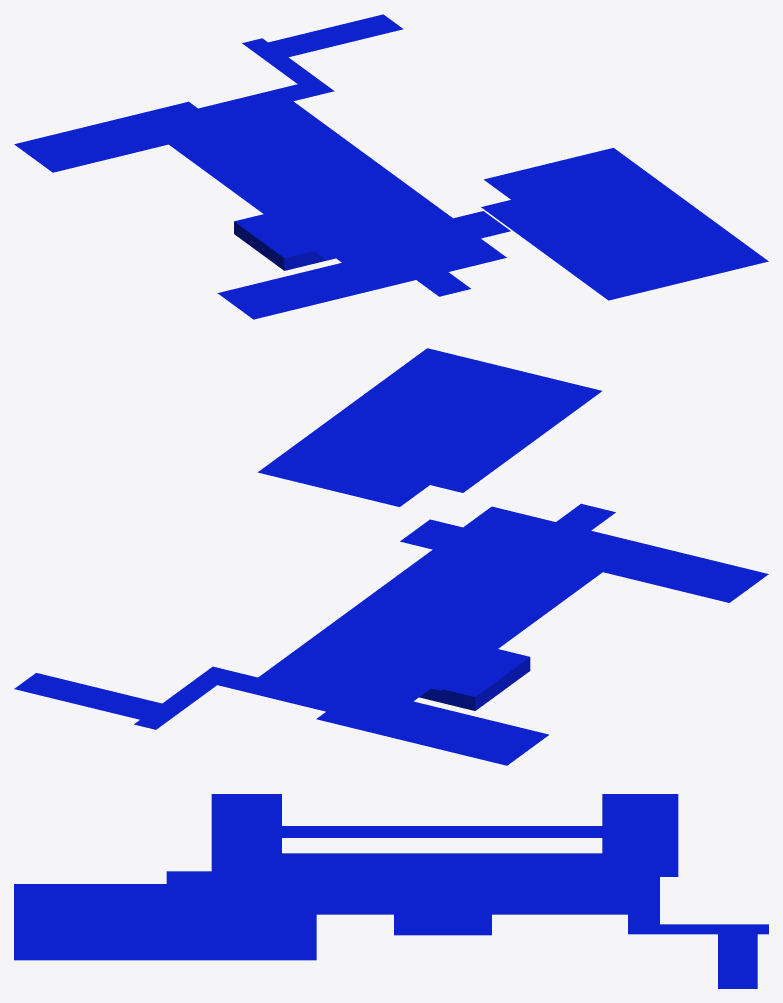
File: KattoRunko_Fix.fbx
The picture shows the model from 3 angles, top to bottom: view 1: azimuth 30°, elevation 25°; view 2: azimuth 150°, elevation 25°; view 3: azimuth 270°, elevation 25°; orthographic projection. The views are drawn at different scales.
Parts seen in each view (by area): view 1: KattoRunko; view 2: KattoRunko; view 3: KattoRunko.
Part boxes in pixels (bbox=[...]): KattoRunko: bbox=[14, 14, 768, 319]; KattoRunko: bbox=[14, 348, 768, 765]; KattoRunko: bbox=[14, 794, 768, 988].
Bounding box in the file's own units: 4136 × 780 × 6708.
